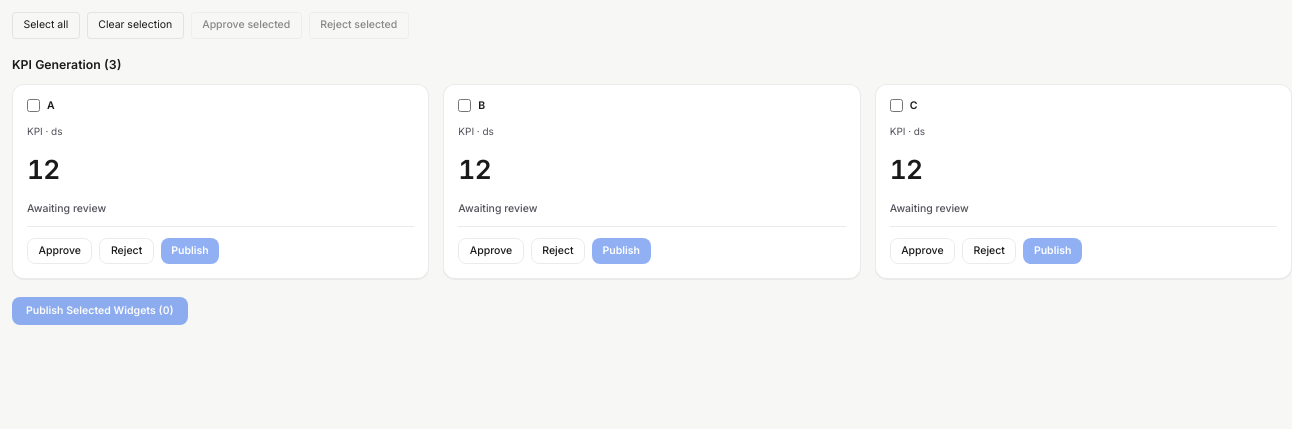
Test case: bulk reviews the selected cards and keeps individual failures available for retry
Click the button "Select all" at (46, 25), box [12,12,80,38]
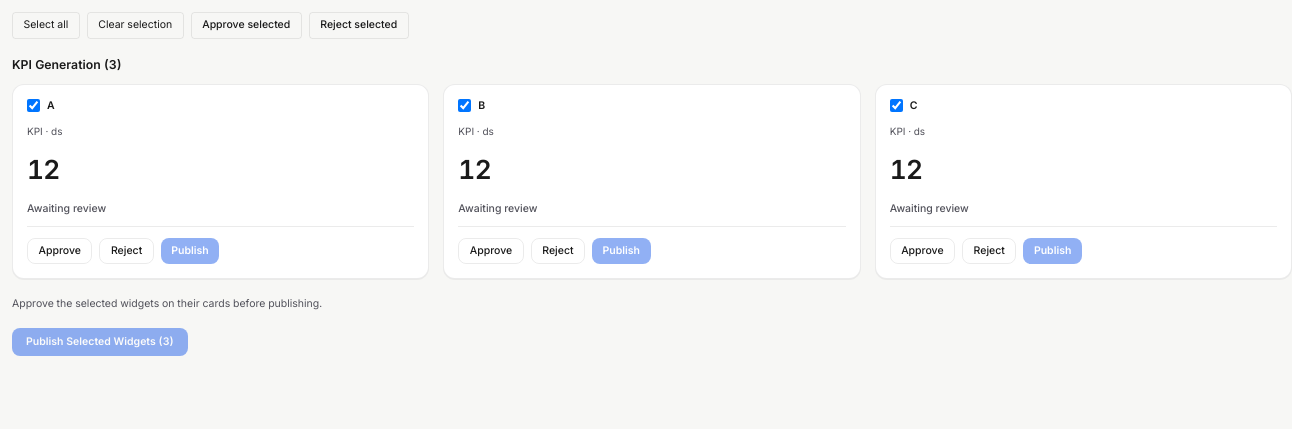
Click the button "Approve selected" at (246, 25), box [191,12,302,38]
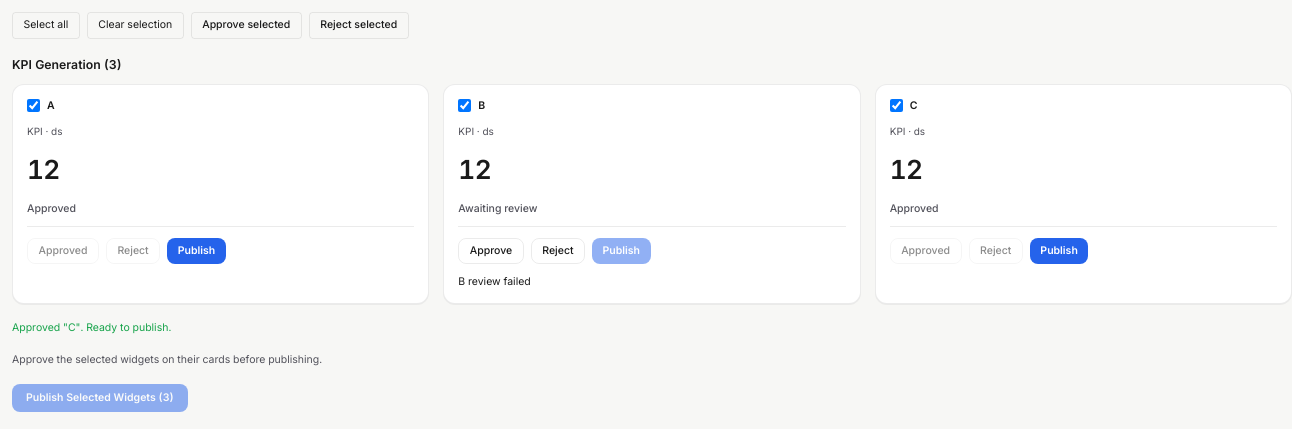
Result: the text "B review failed" is shown at [458,274,531,288]
Result: the button with aria-label "Publish C" is enabled at [1030,238,1088,264]
Result: the button with aria-label "Publish A" is enabled at [167,238,226,264]
